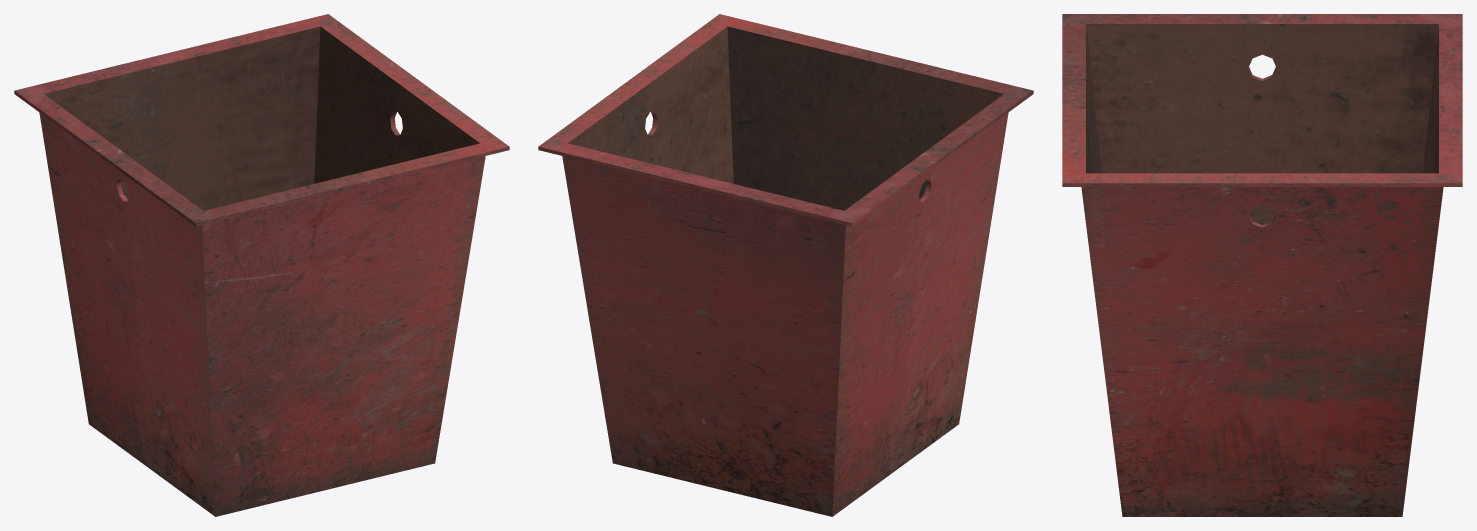
Rendered from sf_trash.glb.
The picture shows the model from 3 angles, left to right: view 1: azimuth 30°, elevation 25°; view 2: azimuth 150°, elevation 25°; view 3: azimuth 270°, elevation 25°; orthographic projection. The views are drawn at different scales.
Visible parts, largest first — view 1: can; view 2: can; view 3: can.
Boxes of the visible parts, box(x1,y1,x2,y2) form: can: box(14, 14, 509, 516); can: box(538, 14, 1033, 516); can: box(1062, 14, 1462, 516).
Size of the model in its own units: 1.38 by 1.37 by 1.38.
1 material, 1 textured.
